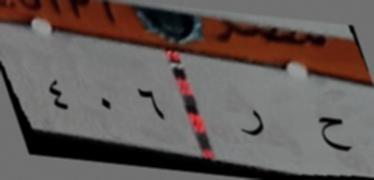0: (95, 92, 118, 116)
4: (38, 74, 75, 124)
6: (135, 87, 170, 126)
7aa: (308, 107, 356, 160)
raa: (232, 100, 275, 146)
